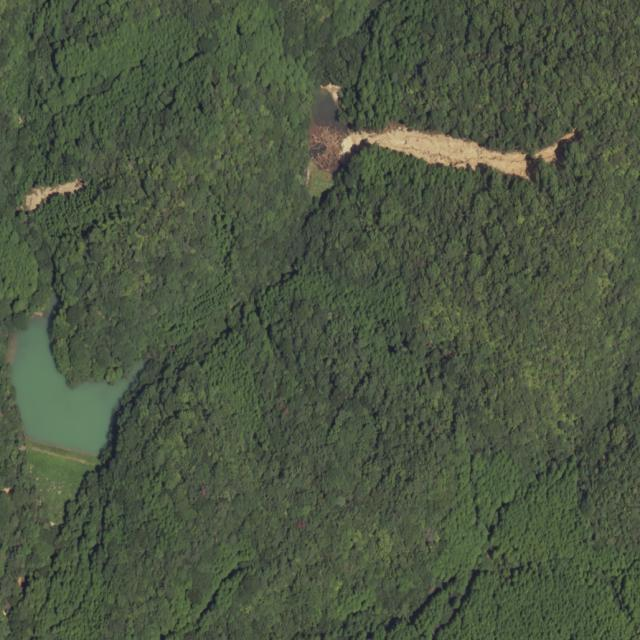landslide: (342, 125, 530, 177), (16, 178, 82, 210)
